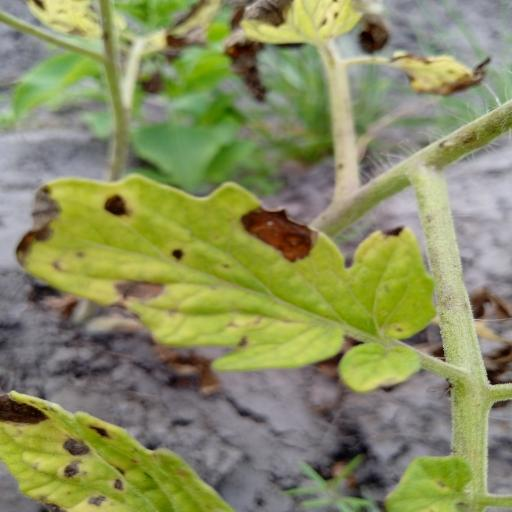Tomato_Brown_Spots: (17, 166, 442, 392)
